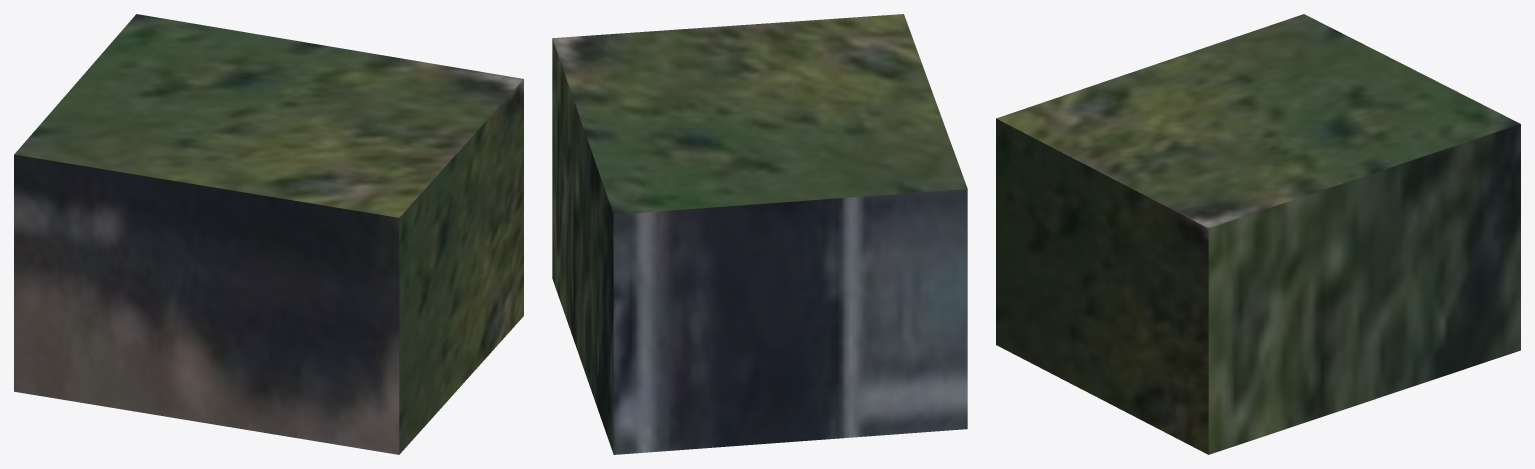
File: input.glb
3 views of the same model, side by side, from view 1: azimuth 30°, elevation 25°; view 2: azimuth 150°, elevation 25°; view 3: azimuth 270°, elevation 25° (orthographic). The views are drawn at different scales.
Visible parts, largest first — view 1: B415681874001063A0; view 2: B415681874001063A0; view 3: B415681874001063A0.
Boxes of the visible parts, left/top/right/bottom form: B415681874001063A0: left=14, top=14, right=523, bottom=454; B415681874001063A0: left=552, top=14, right=967, bottom=454; B415681874001063A0: left=996, top=14, right=1520, bottom=454.
Size of the model in its own units: 7.31 by 3.6 by 7.56.
1 material, 1 textured.
